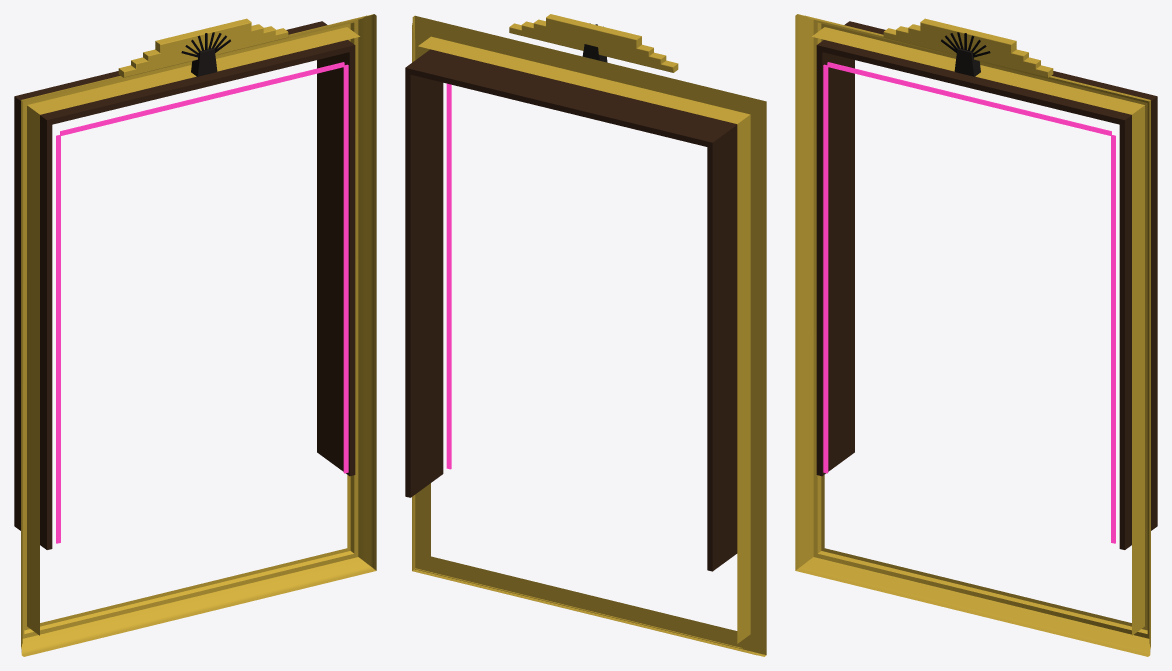
Rendered from door_frame_22.glb.
3 views of the same model, side by side, from view 1: azimuth 30°, elevation 25°; view 2: azimuth 150°, elevation 25°; view 3: azimuth 330°, elevation 25° (orthographic).
Visible parts, largest first — view 1: doorframe22_gold, doorframe22_woodDark, doorframe22_glow, doorframe22_marble; view 2: doorframe22_woodDark, doorframe22_gold, doorframe22_glow; view 3: doorframe22_gold, doorframe22_woodDark, doorframe22_glow, doorframe22_marble.
Boxes of the visible parts, x1=… form: doorframe22_gold: x1=21, y1=14, x2=376, y2=656; doorframe22_woodDark: x1=14, y1=21, x2=355, y2=549; doorframe22_glow: x1=56, y1=62, x2=348, y2=543; doorframe22_marble: x1=191, y1=48, x2=217, y2=76; doorframe22_woodDark: x1=405, y1=49, x2=737, y2=571; doorframe22_gold: x1=412, y1=14, x2=766, y2=656; doorframe22_glow: x1=446, y1=83, x2=451, y2=469; doorframe22_gold: x1=795, y1=14, x2=1150, y2=656; doorframe22_woodDark: x1=816, y1=21, x2=1157, y2=549; doorframe22_glow: x1=823, y1=62, x2=1115, y2=543; doorframe22_marble: x1=954, y1=48, x2=980, y2=76.
Size of the model in its own units: 2.61 by 4.14 by 0.5041.
